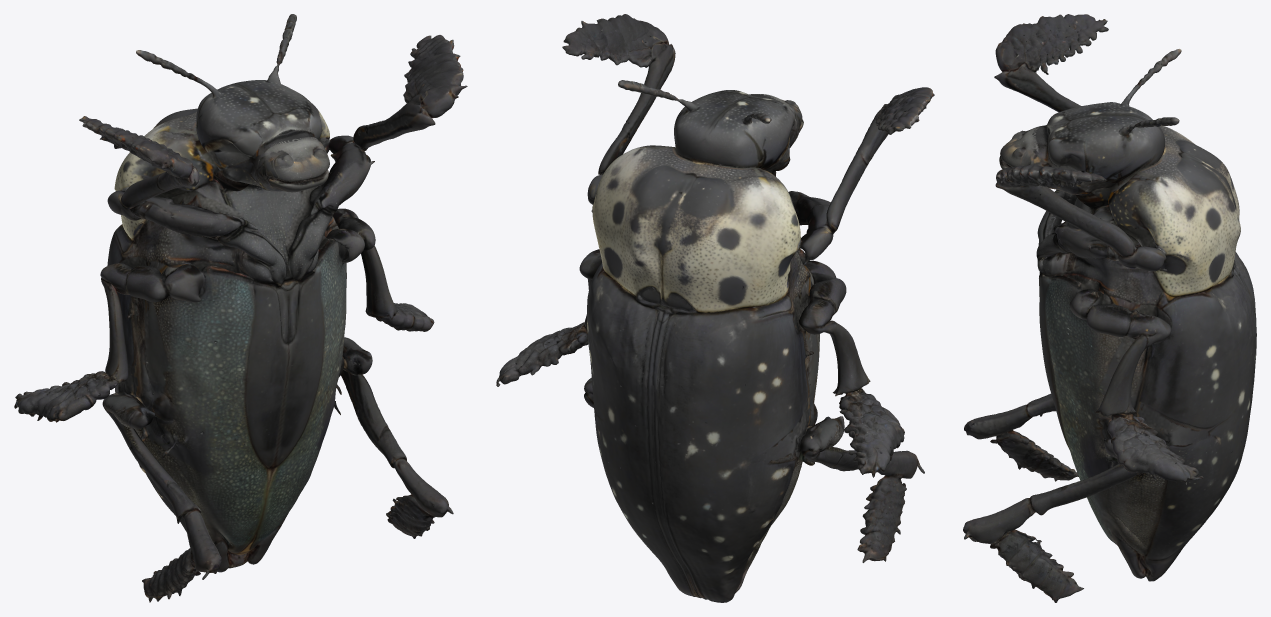
The model's file is coleoptere.glb.
The picture shows the model from 3 angles, left to right: view 1: azimuth 30°, elevation 25°; view 2: azimuth 150°, elevation 25°; view 3: azimuth 270°, elevation 25°; orthographic projection. The views are drawn at different scales.
Bounding box in the file's own units: 1.58 × 1.99 × 1.09.
Materials: 1 (1 with a texture image).
